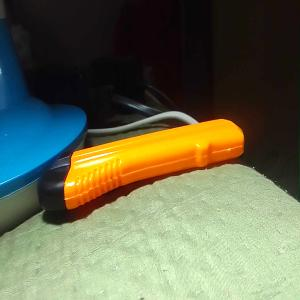estilete: (37, 118, 245, 214)
